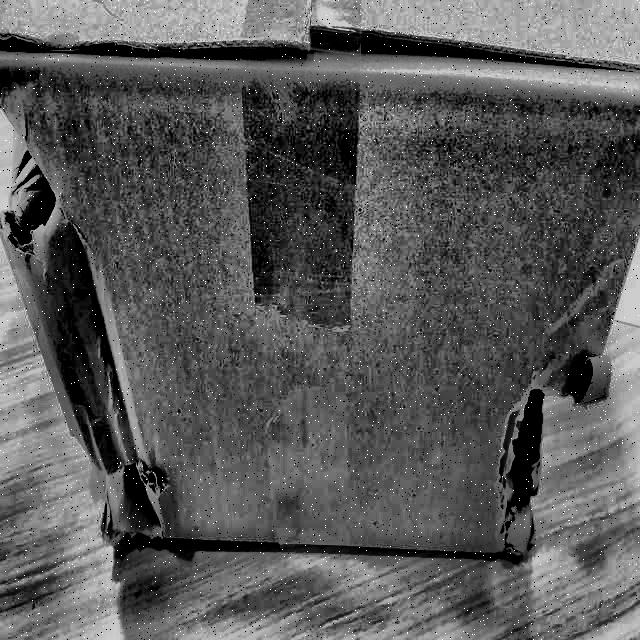box: (1, 0, 640, 584)
hole: (490, 368, 594, 566), (0, 89, 87, 281), (87, 444, 180, 550)
